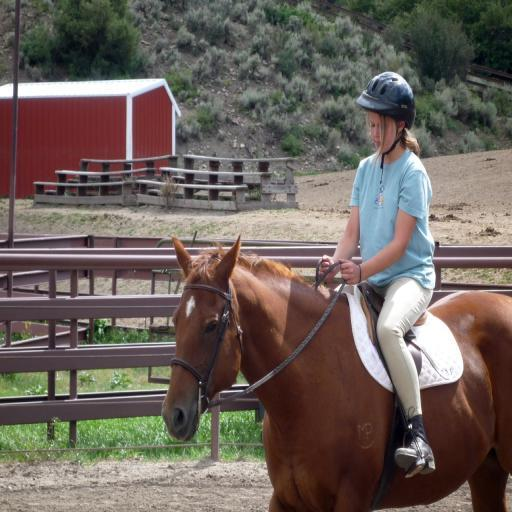horse: (160, 232, 512, 512)
